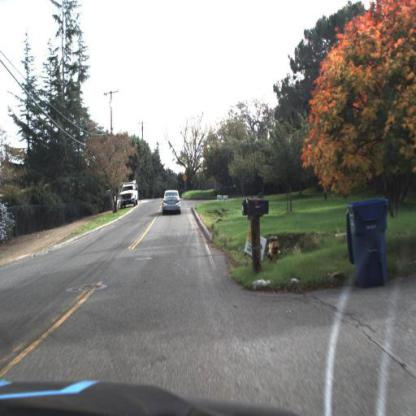car: (160, 183, 185, 215)
truck: (116, 178, 143, 216)
